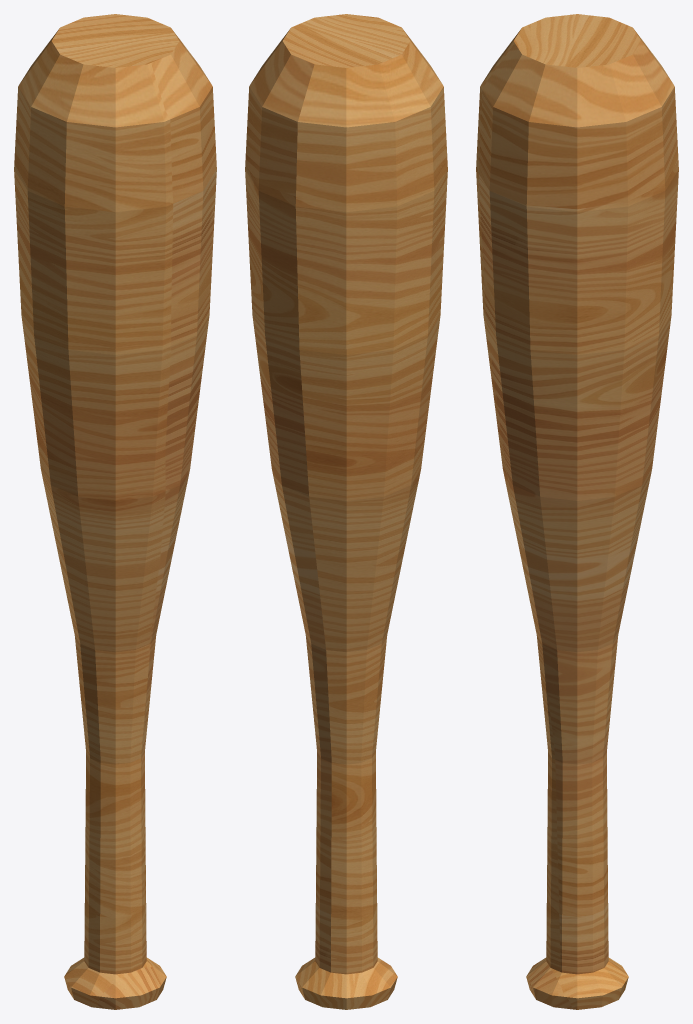
Rendered from Weapon_Baseball_Bat.fbx.
3 renders of one model, left to right at view 1: azimuth 30°, elevation 25°; view 2: azimuth 150°, elevation 25°; view 3: azimuth 270°, elevation 25°, orthographic.
Parts seen in each view (by area): view 1: Weapon_Baseball_Bat; view 2: Weapon_Baseball_Bat; view 3: Weapon_Baseball_Bat.
Boxes of the visible parts, x1,y1,x2,y2 form: Weapon_Baseball_Bat: [14, 14, 216, 1009]; Weapon_Baseball_Bat: [245, 14, 447, 1009]; Weapon_Baseball_Bat: [476, 14, 678, 1009].
Size of the model in its own units: 0.1672 by 0.8624 by 0.1672.
